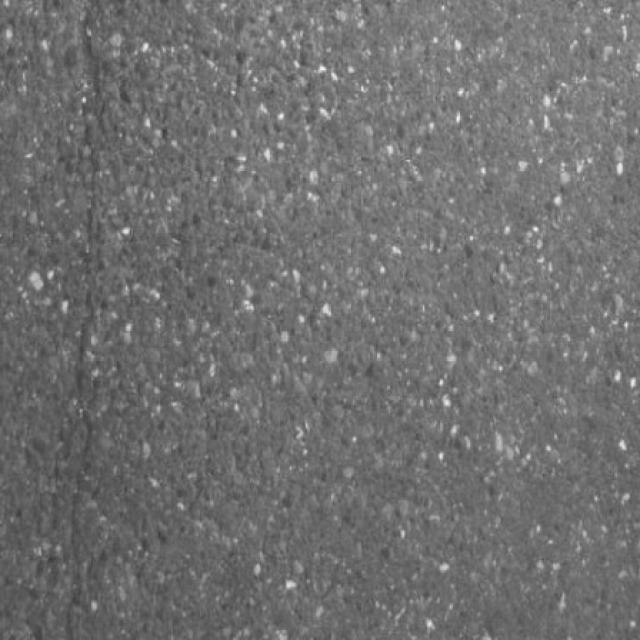Vertical Crack: (57, 7, 107, 640)
